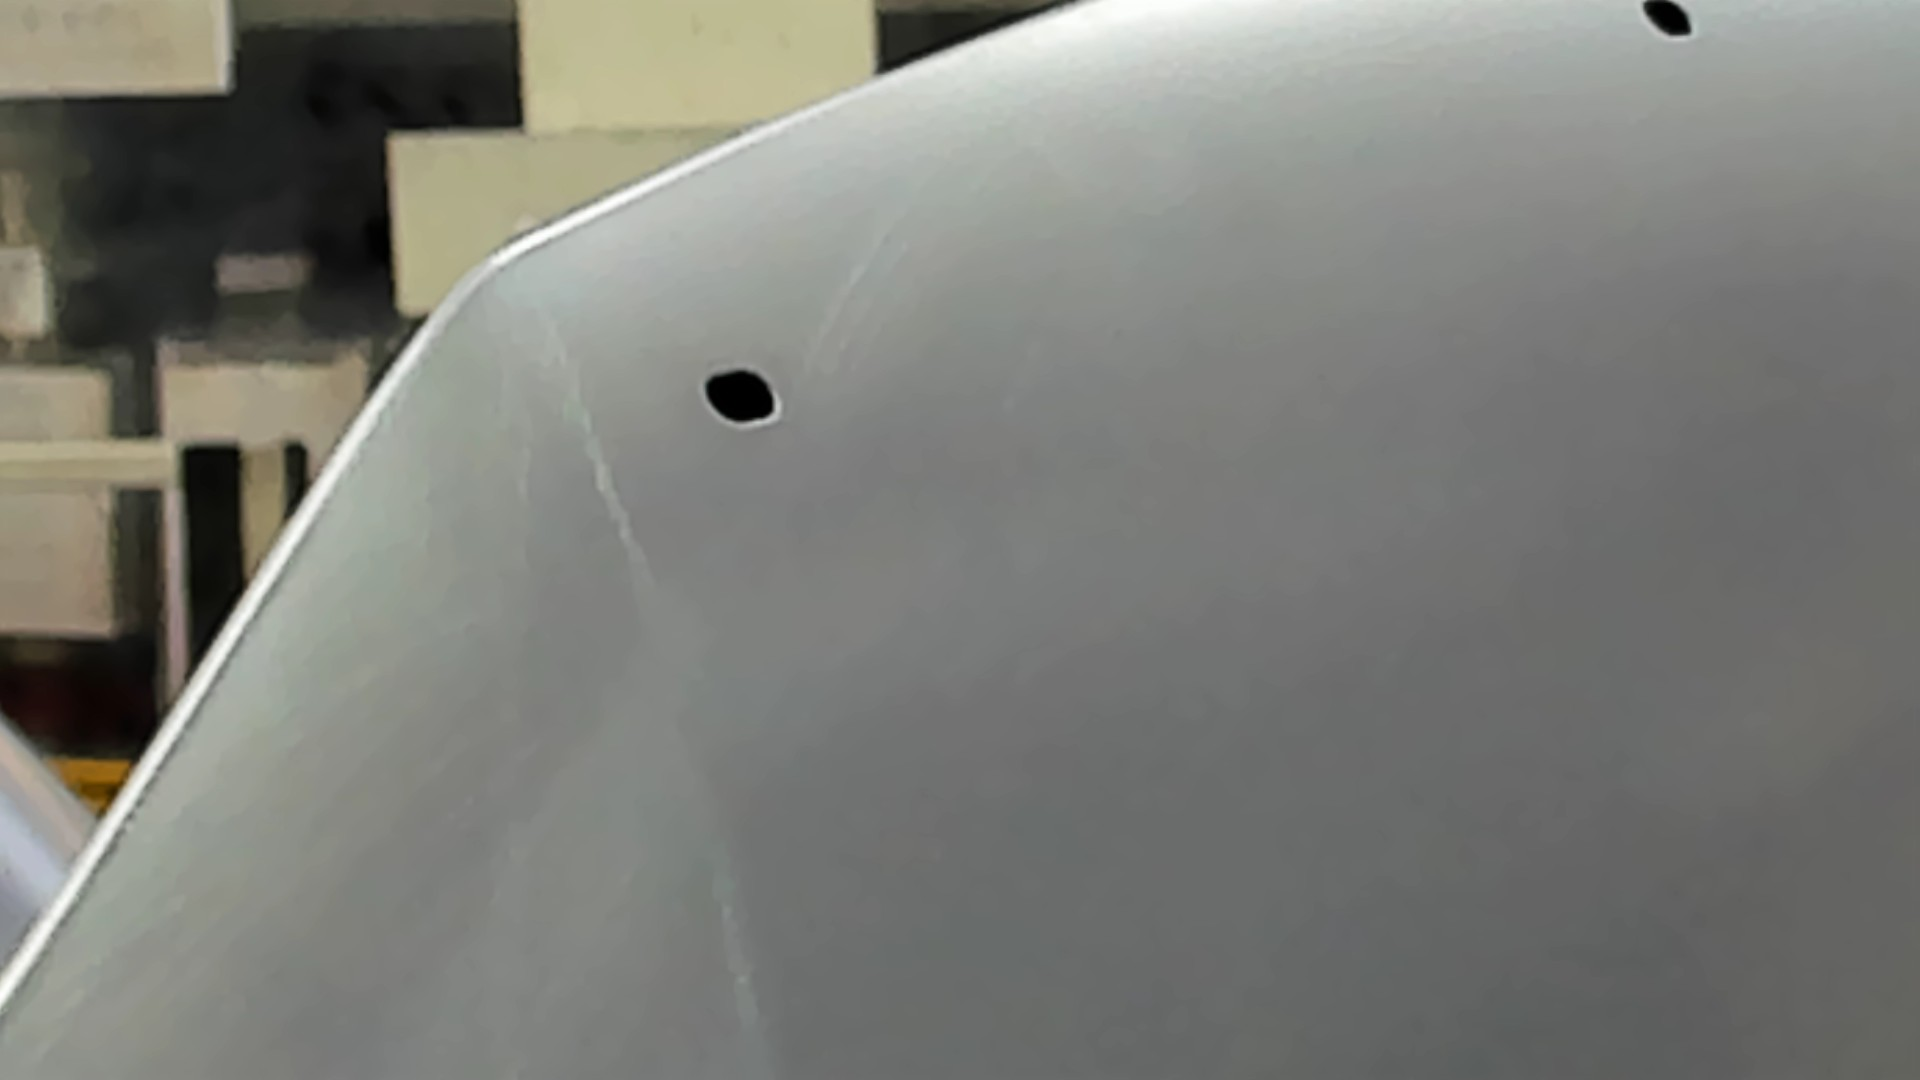amorfo: (694, 360, 789, 429), (1636, 1, 1704, 49)
